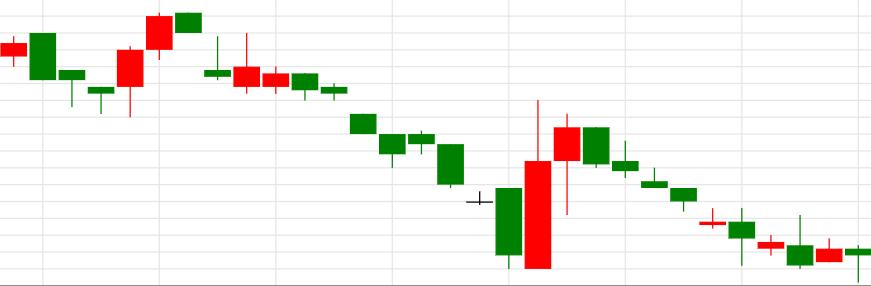bullish_engulfing_rise: (175, 11, 553, 271)
